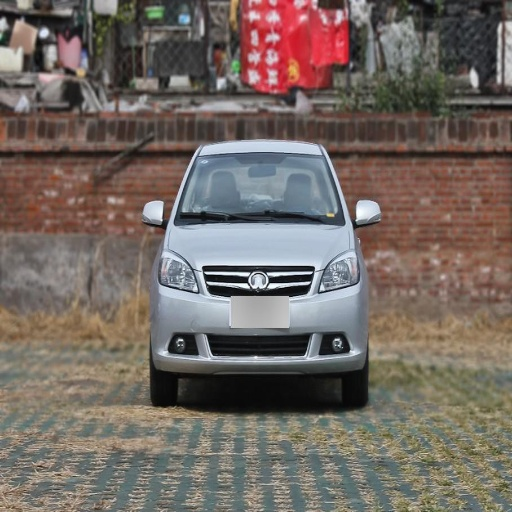front_bumper: (151, 267, 368, 372)
front_right_light: (158, 251, 200, 293)
hood: (169, 224, 350, 268)
